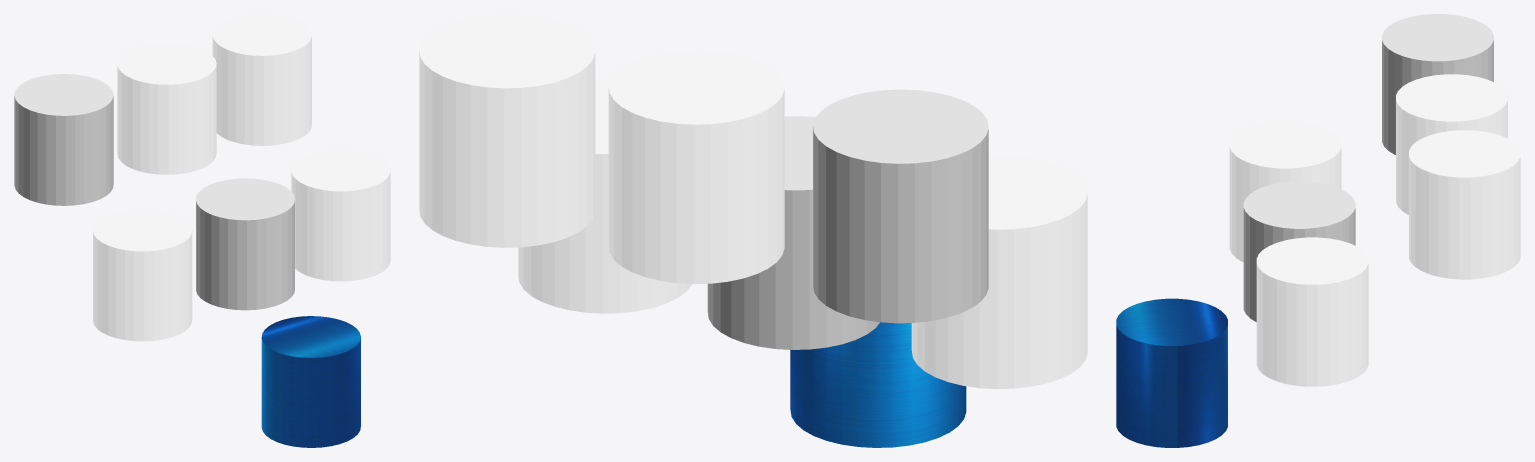
File: cilindros_textura.gltf
The picture shows the model from 3 angles, left to right: view 1: azimuth 30°, elevation 25°; view 2: azimuth 150°, elevation 25°; view 3: azimuth 270°, elevation 25°; orthographic projection. The views are drawn at different scales.
Visible parts, largest first — view 1: Cilindro.005, Cilindro.006, Cilindro, Cilindro.002, Cilindro.003, Cilindro.004, Cilindro.001; view 2: Cilindro, Cilindro.001, Cilindro.002, Cilindro.005, Cilindro.006, Cilindro.003, Cilindro.004; view 3: Cilindro.004, Cilindro.001, Cilindro.006, Cilindro.005, Cilindro.002, Cilindro.003, Cilindro.
Boxes of the visible parts, x1=… form: Cilindro.005: x1=93, y1=209, x2=192, y2=341; Cilindro.006: x1=261, y1=316, x2=360, y2=447; Cilindro: x1=117, y1=43, x2=216, y2=174; Cilindro.002: x1=14, y1=74, x2=113, y2=205; Cilindro.003: x1=196, y1=178, x2=294, y2=310; Cilindro.004: x1=291, y1=149, x2=390, y2=281; Cilindro.001: x1=212, y1=14, x2=311, y2=145; Cilindro: x1=608, y1=50, x2=784, y2=284; Cilindro.001: x1=419, y1=14, x2=595, y2=247; Cilindro.002: x1=813, y1=89, x2=988, y2=323; Cilindro.005: x1=911, y1=155, x2=1087, y2=389; Cilindro.006: x1=790, y1=322, x2=966, y2=447; Cilindro.003: x1=707, y1=116, x2=879, y2=349; Cilindro.004: x1=518, y1=80, x2=691, y2=313; Cilindro.004: x1=1256, y1=237, x2=1368, y2=386; Cilindro.001: x1=1409, y1=130, x2=1520, y2=279; Cilindro.006: x1=1116, y1=298, x2=1227, y2=447; Cilindro.005: x1=1229, y1=121, x2=1341, y2=262; Cilindro.002: x1=1382, y1=14, x2=1493, y2=154; Cilindro.003: x1=1243, y1=181, x2=1355, y2=322; Cilindro: x1=1396, y1=74, x2=1507, y2=214.
Bounding box in the file's own units: 7.14 × 6.18 × 7.19.
Materials: 7 (1 with a texture image).
